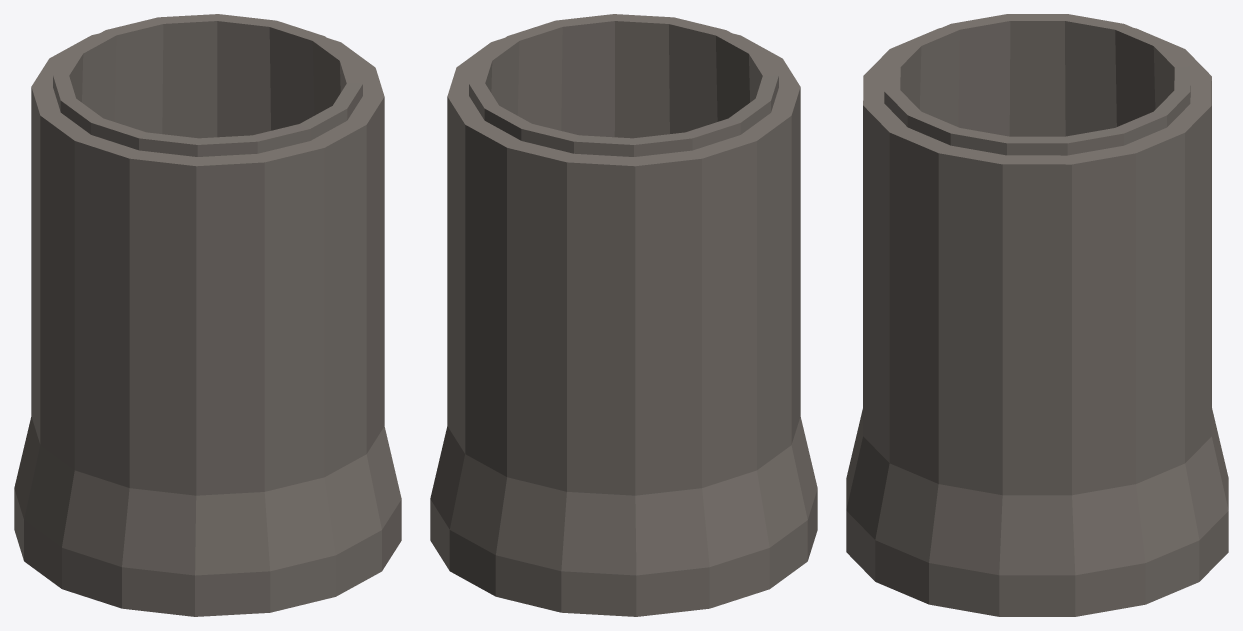
Rendered from Concrete_Pipe_Medium.fbx.
3 renders of one model, left to right at view 1: azimuth 30°, elevation 25°; view 2: azimuth 150°, elevation 25°; view 3: azimuth 270°, elevation 25°, orthographic.
Visible parts, largest first — view 1: Concrete_Pipe_Medium; view 2: Concrete_Pipe_Medium; view 3: Concrete_Pipe_Medium.
Part boxes in pixels (x1,y1,x2,y2): Concrete_Pipe_Medium: (14, 14, 401, 616); Concrete_Pipe_Medium: (430, 14, 817, 616); Concrete_Pipe_Medium: (846, 14, 1228, 616).
Bounding box in the file's own units: 2.13 × 2.81 × 2.13.
